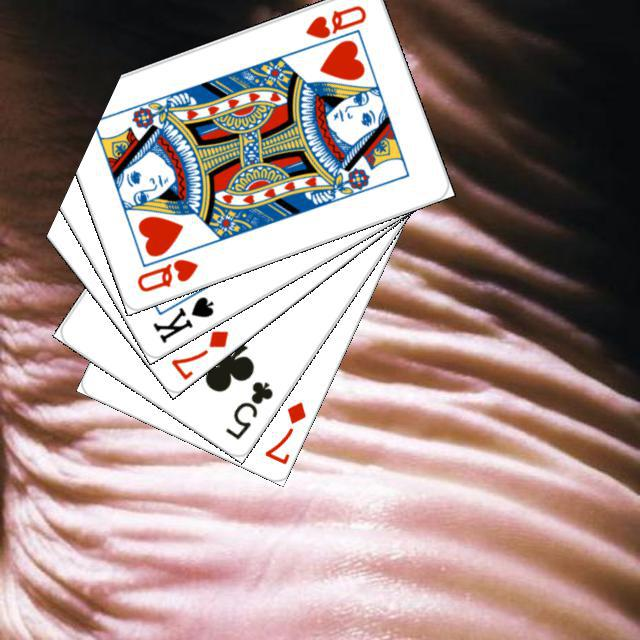5c: (220, 376, 275, 442)
7d: (166, 325, 231, 380), (259, 396, 308, 466)
Ks: (147, 291, 216, 345)
Qh: (298, 0, 368, 53), (132, 253, 200, 294)
